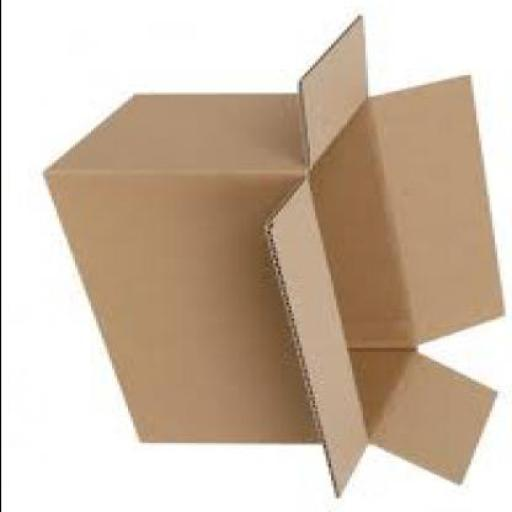cardboard: (48, 16, 506, 503)
